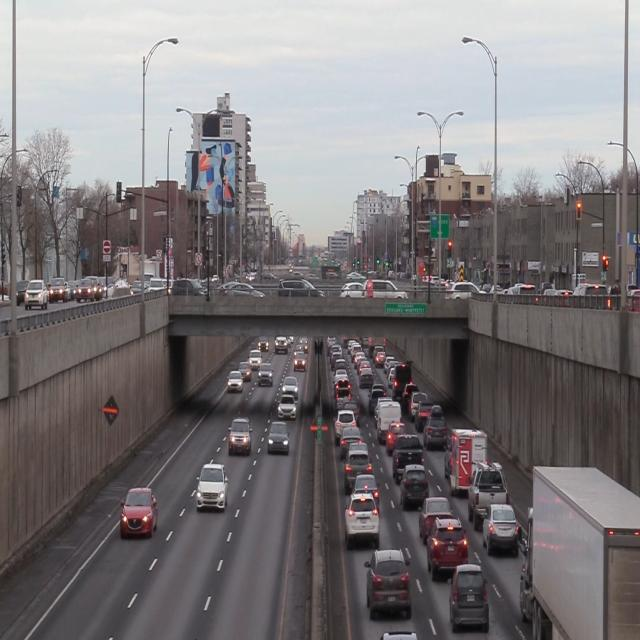Car: (521, 463, 640, 640), (363, 548, 413, 618), (449, 563, 492, 633), (426, 515, 471, 578), (446, 427, 488, 492), (470, 464, 510, 522), (120, 485, 160, 540), (344, 494, 381, 550), (483, 504, 521, 557), (418, 496, 453, 538), (399, 464, 430, 509), (198, 461, 227, 509), (394, 437, 424, 473), (229, 418, 253, 455), (268, 420, 291, 455), (277, 395, 297, 421), (228, 370, 243, 394)
